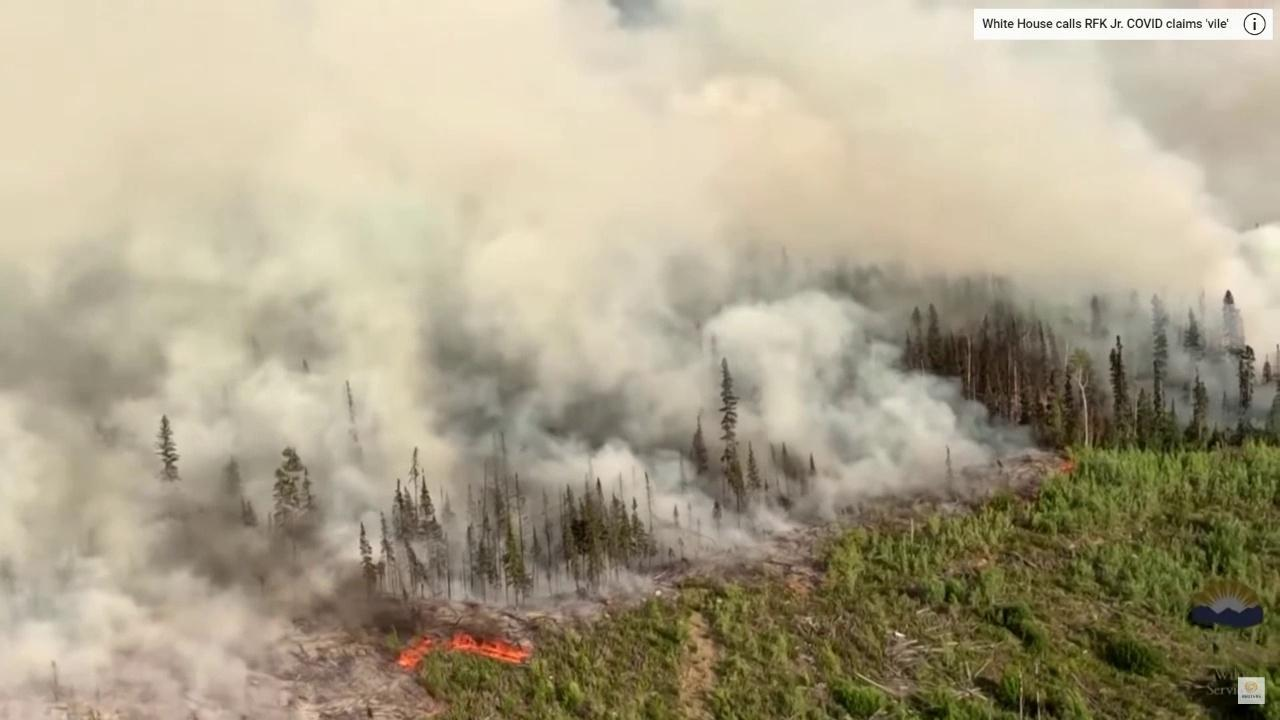fire: (0, 0, 1280, 720), (393, 629, 532, 671), (1055, 455, 1075, 475)
